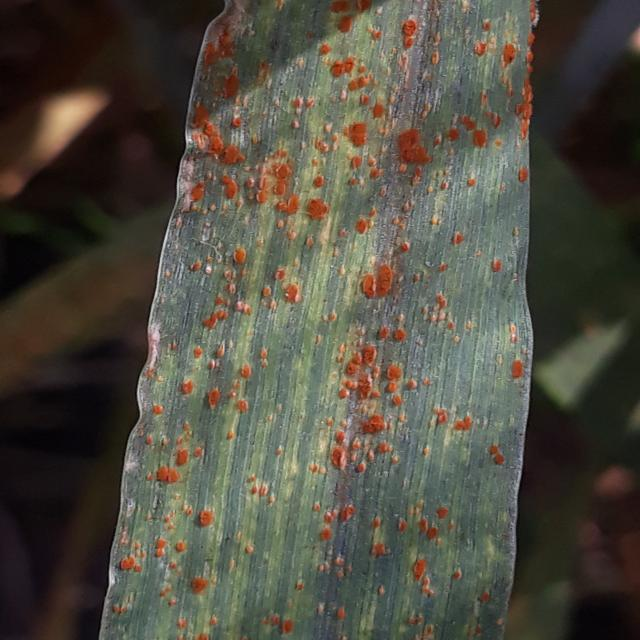orang_rust: (98, 2, 540, 640)
